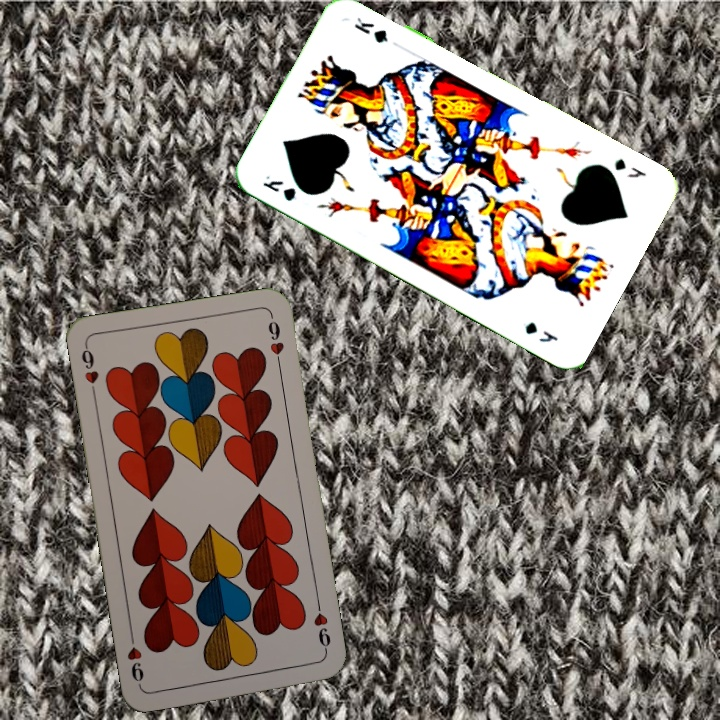GK: (259, 176, 299, 204), (610, 154, 649, 181)
H9: (309, 598, 334, 657), (77, 341, 101, 400)
